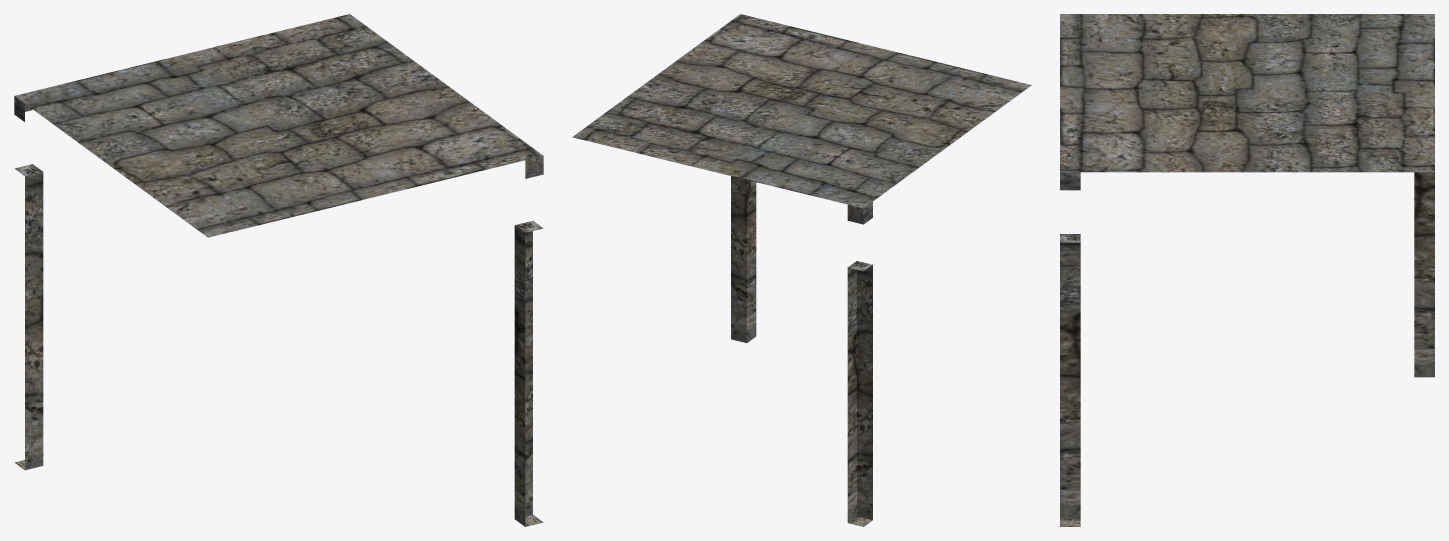
Rendered from Fort_11101110.gltf.
The picture shows the model from 3 angles, left to right: view 1: azimuth 30°, elevation 25°; view 2: azimuth 150°, elevation 25°; view 3: azimuth 270°, elevation 25°; orthographic projection. The views are drawn at different scales.
Visible parts, largest first — view 1: Claimed_11101110; view 2: Claimed_11101110; view 3: Claimed_11101110.
Boxes of the visible parts, box(x1,y1,x2,y2) form: Claimed_11101110: box(14, 14, 543, 526); Claimed_11101110: box(572, 14, 1031, 526); Claimed_11101110: box(1060, 14, 1434, 526).
Bounding box in the file's own units: 2.5 × 2.61 × 2.5.
1 material, 1 textured.
